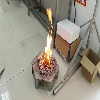fire: (39, 8, 53, 71)
